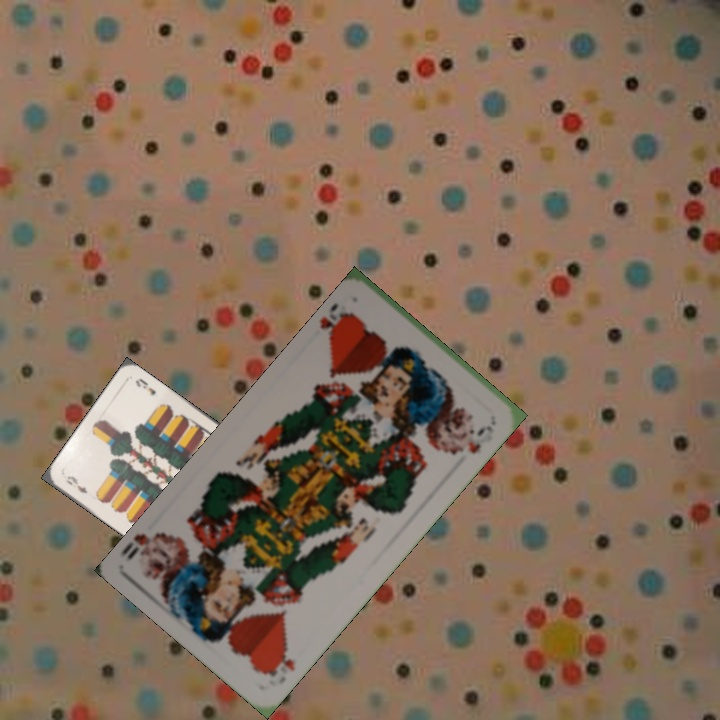E9: (62, 471, 90, 496)
HO: (315, 300, 357, 347), (260, 643, 297, 679)
